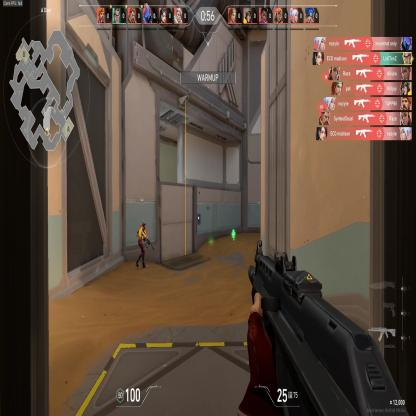enemy: (135, 218, 149, 268)
